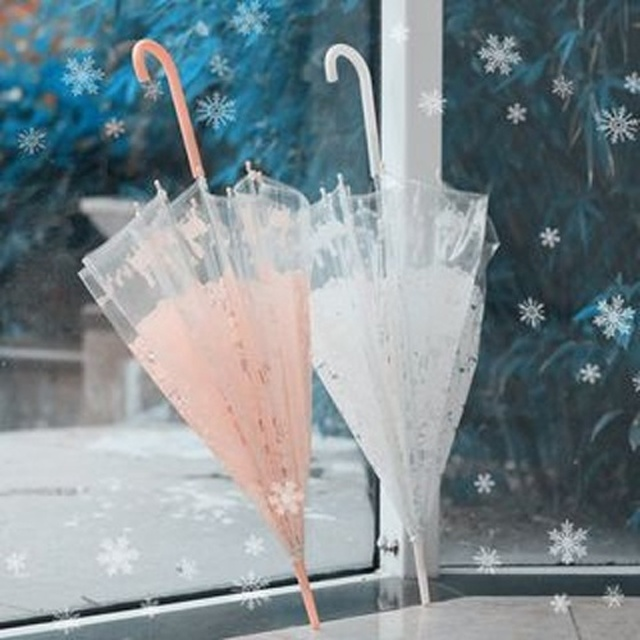umbrella: (76, 33, 327, 631), (299, 42, 497, 610)
